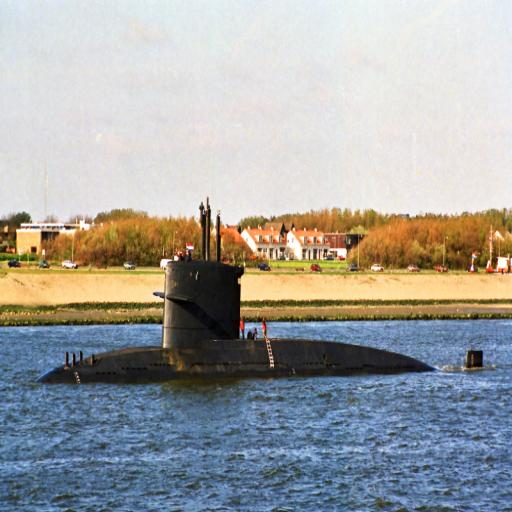submarine: (35, 189, 486, 387)
